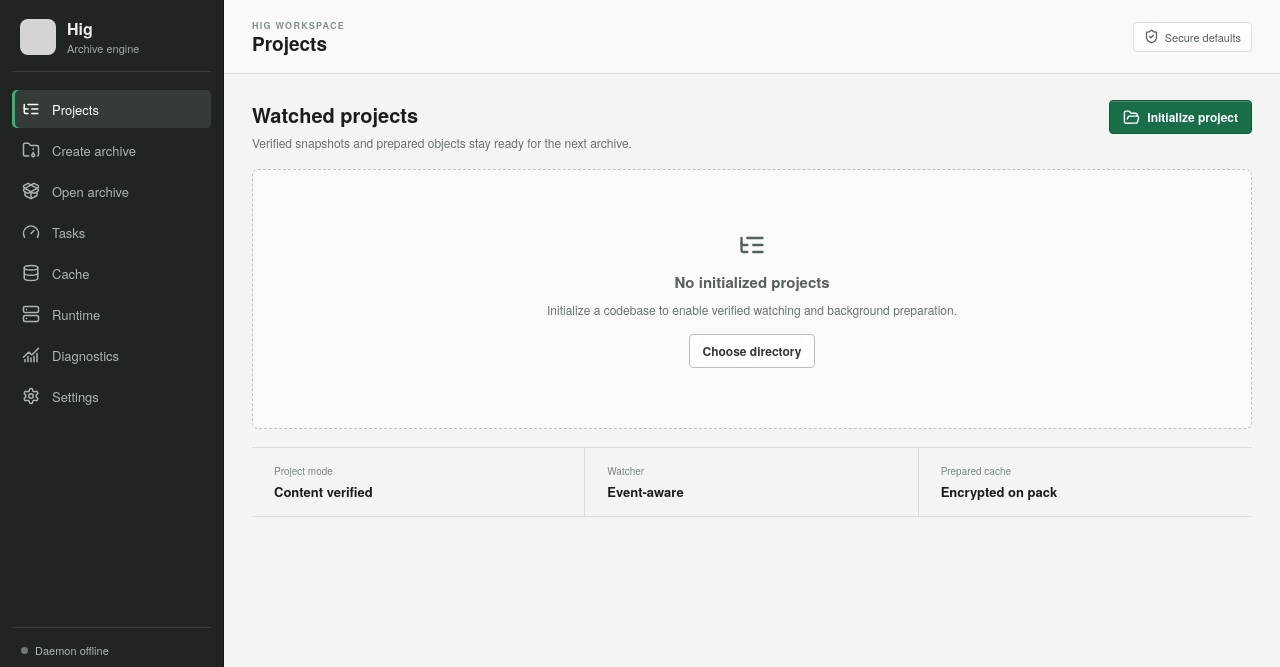
it: Hig desktop › shows safe archive defaults and explicit fastest risk
The image size is (1280, 667).
Expected: the text "Secure defaults" is shown, [1133,22,1252,52]
Click the button "Create archive": (112, 150) [12,131,211,169]
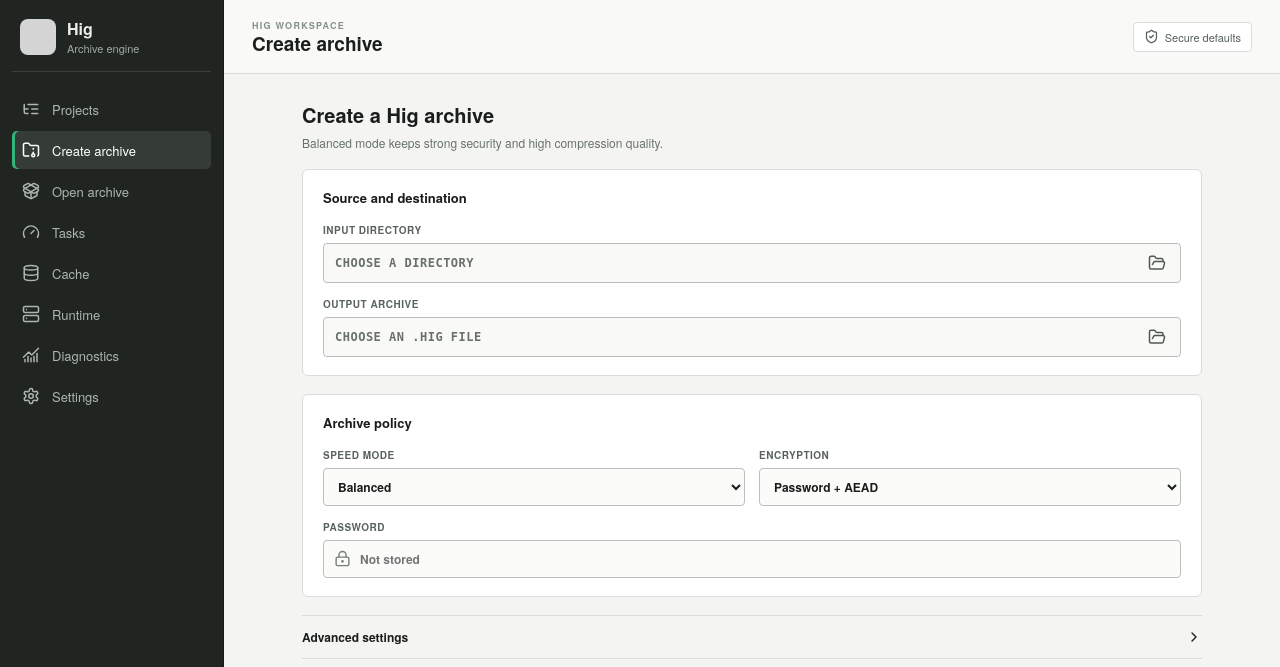
Expected: the text "Password" is shown, [323,520,385,534]
Select "Fastest" in the dropdown labelled "Speed mode": (534, 487) [323,468,745,506]
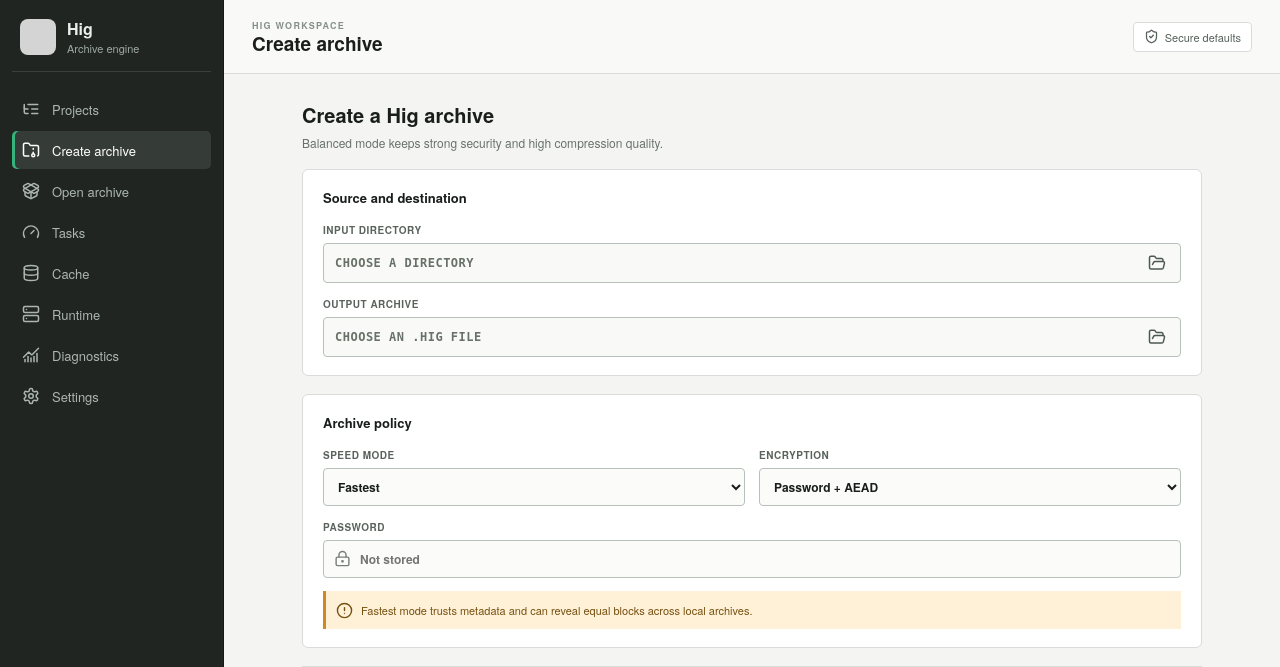
Expected: the text "trusts metadata" is shown, [361,602,752,618]
